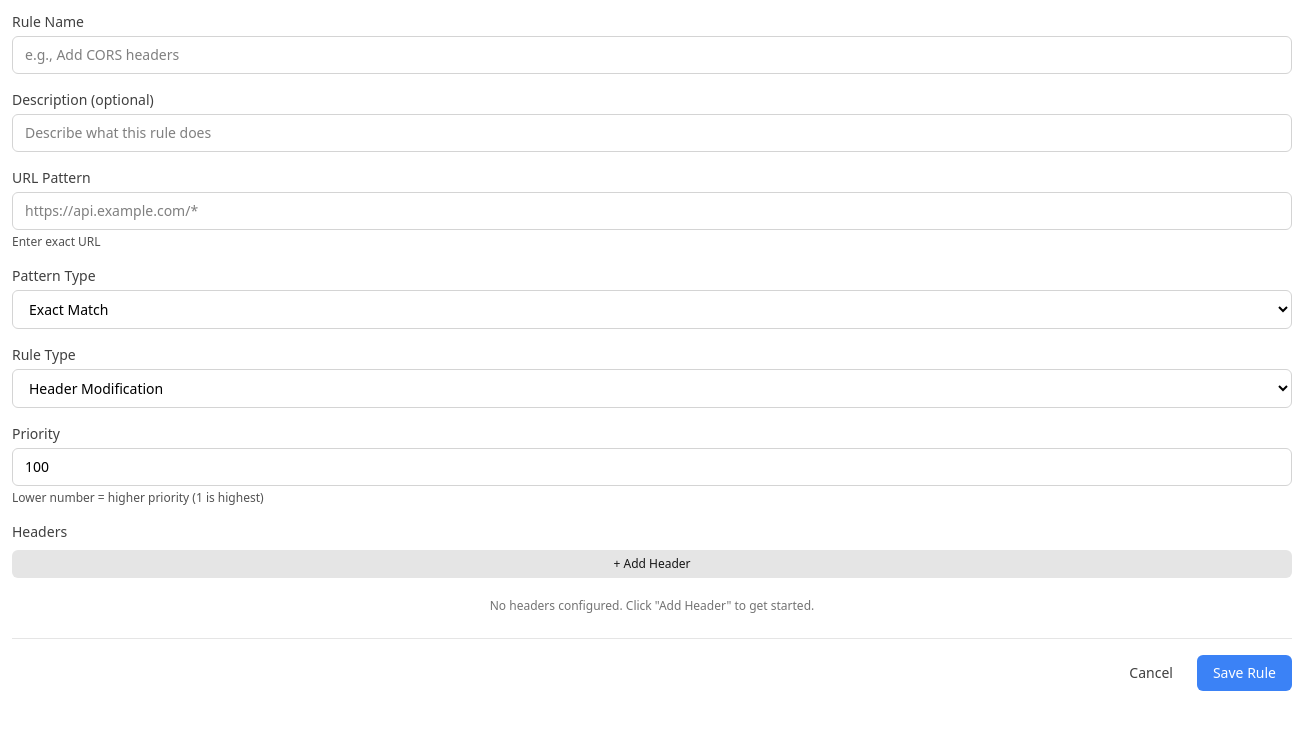
it: RuleEditor › Validation › should validate URL format for exact pattern type
In the field labelled "Rule Name": x=652, y=55 [12,36,1292,74], type "Test Rule"
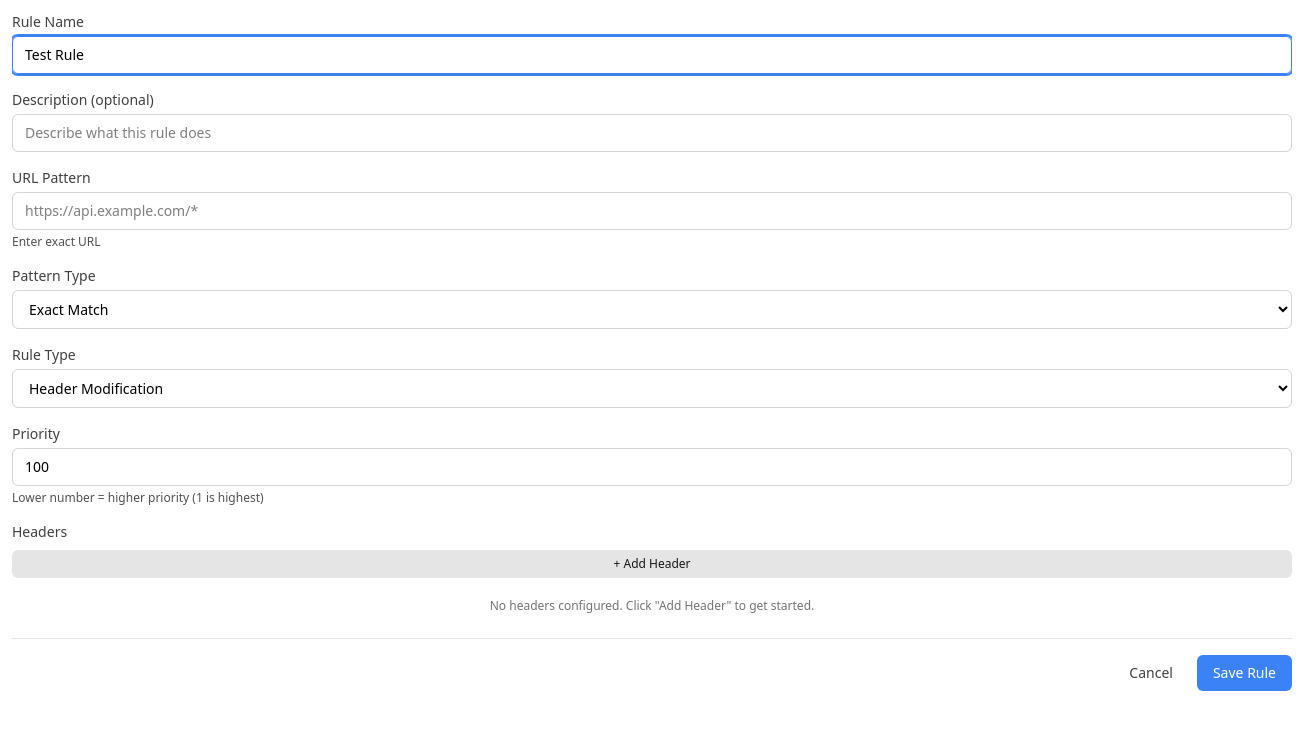
In the field labelled "URL Pattern": x=652, y=211 [12,192,1292,230], type "invalid-url"
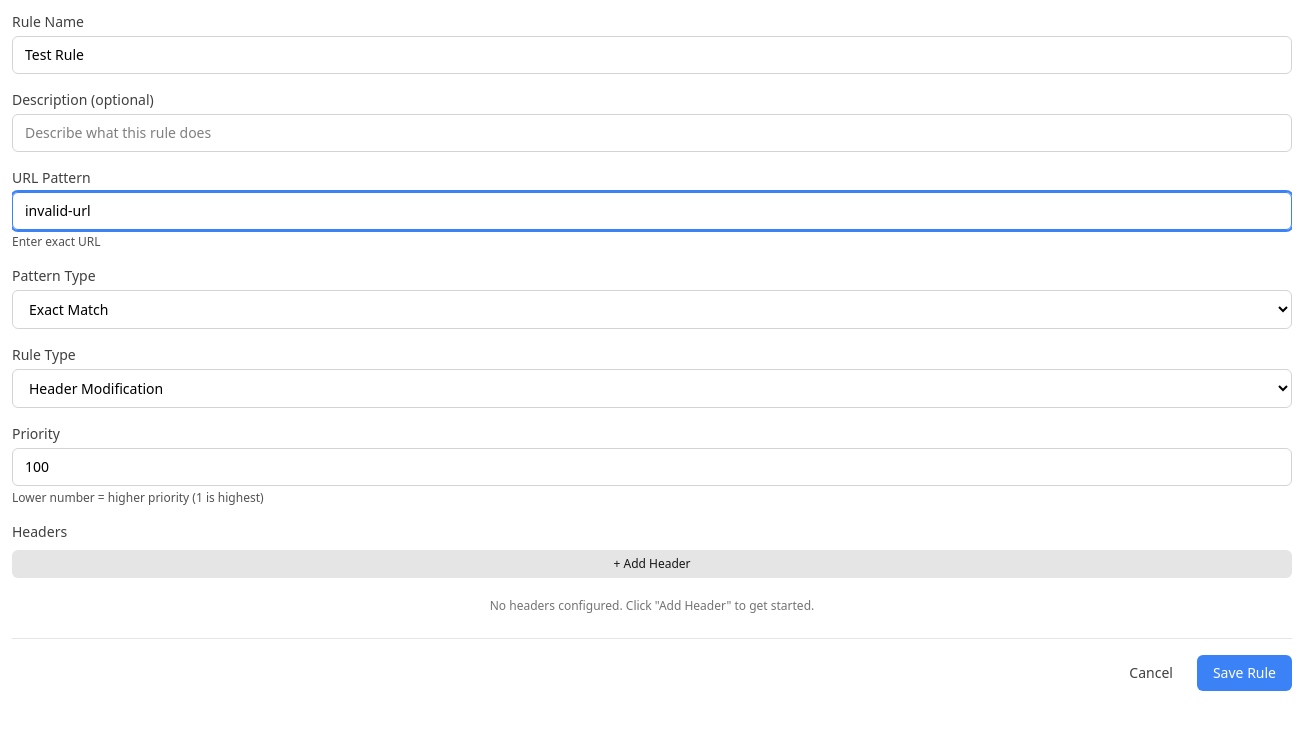
Click the button "Save Rule": x=1244, y=673 [1197,655,1292,691]
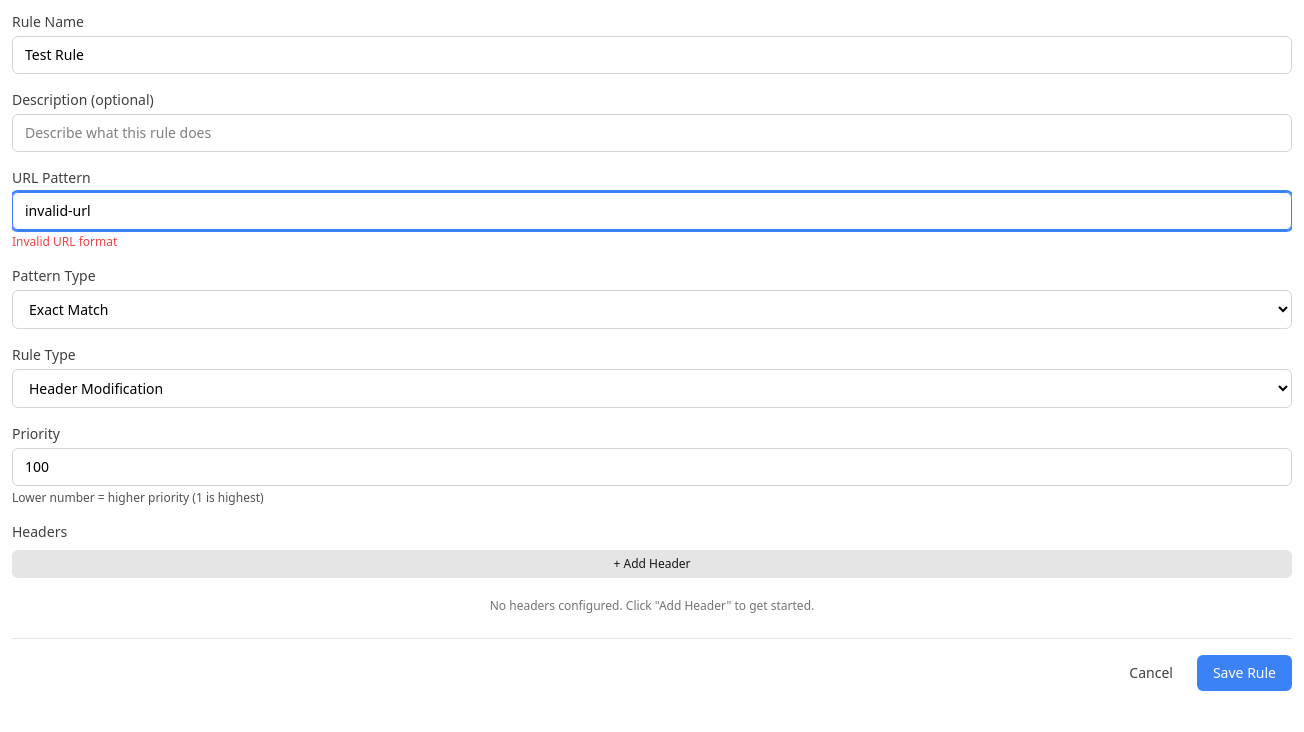
Now the text "Invalid URL format" is shown, box [12,233,117,250]
